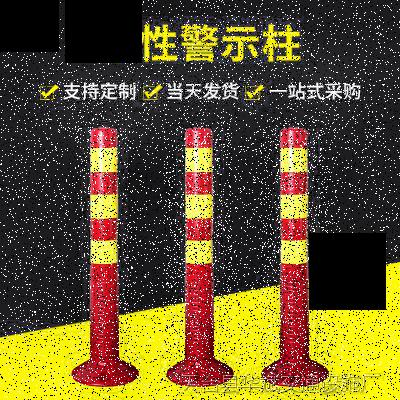bench: (261, 118, 330, 383), (164, 121, 233, 383), (75, 125, 133, 384)
